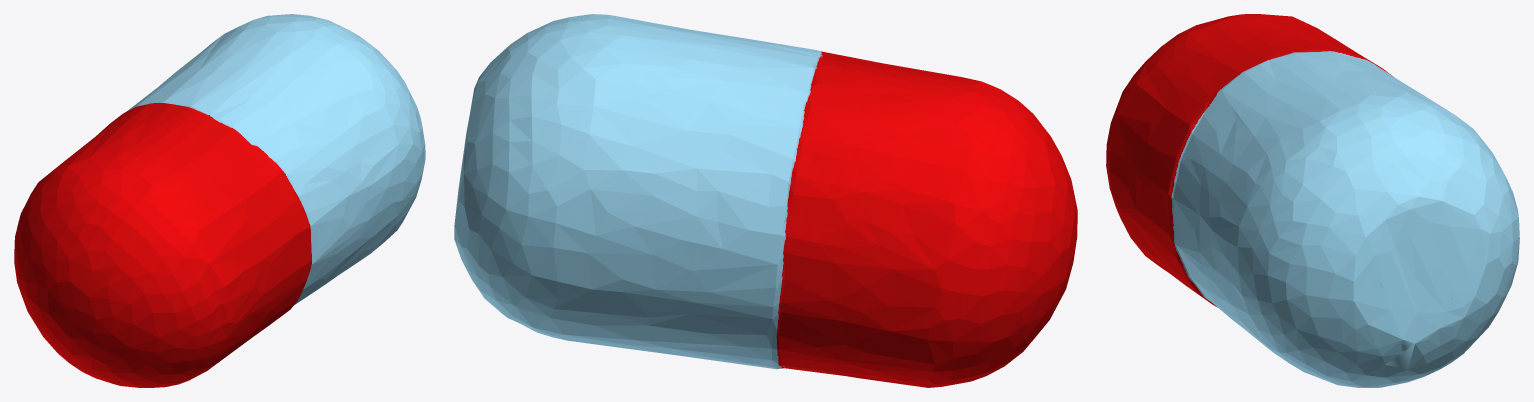
The model's file is pill.fbx.
The picture shows the model from 3 angles, left to right: view 1: azimuth 30°, elevation 25°; view 2: azimuth 150°, elevation 25°; view 3: azimuth 270°, elevation 25°; orthographic projection. The views are drawn at different scales.
Visible parts, largest first — view 1: Mesh_0; view 2: Mesh_0; view 3: Mesh_0.
Boxes of the visible parts, x1,y1,x2,y2 form: Mesh_0: (14,14,425,387); Mesh_0: (454,14,1077,387); Mesh_0: (1106,14,1519,387).
Size of the model in its own units: 1.69 by 1 by 1.28.
Materials: 1 (1 with a texture image).
